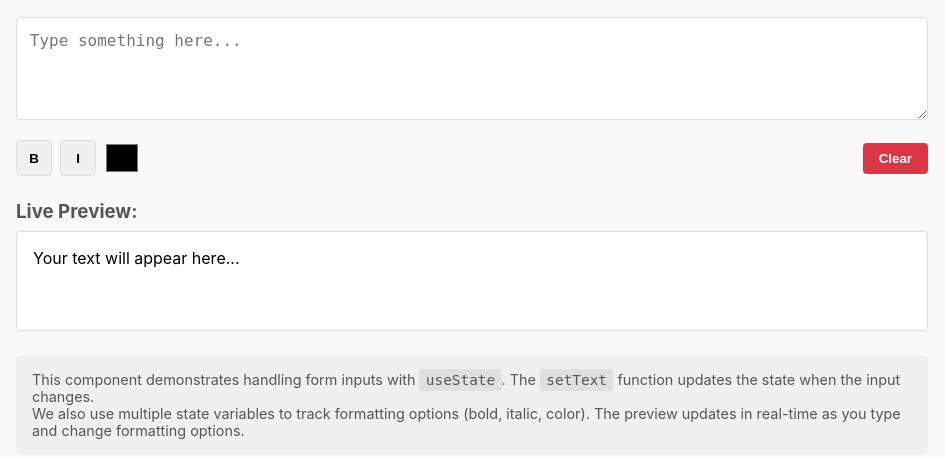
TextPreview Component › clears all formatting and text when clear button is clicked
// Add some text and formatting
Type "Test Text" into the text box with placeholder "Type something here..." at (472, 68), box [16,17,928,120]
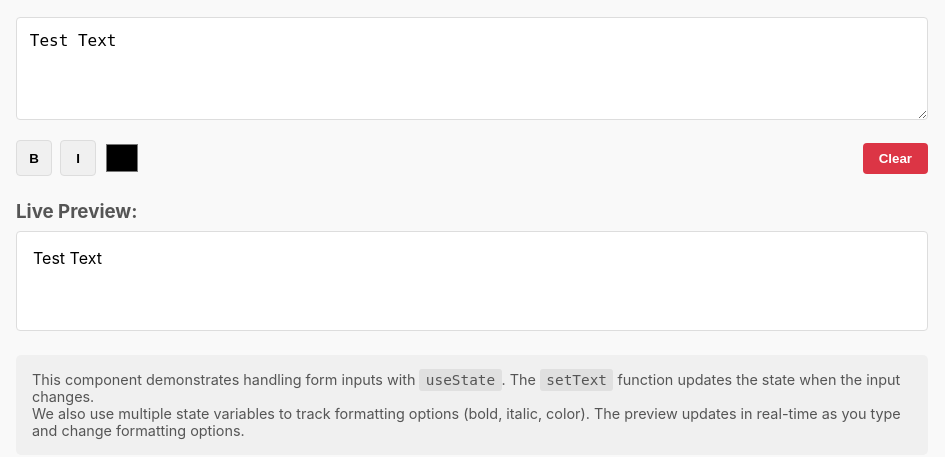
Click the button titled "Bold" at (34, 158), box [16,140,52,176]
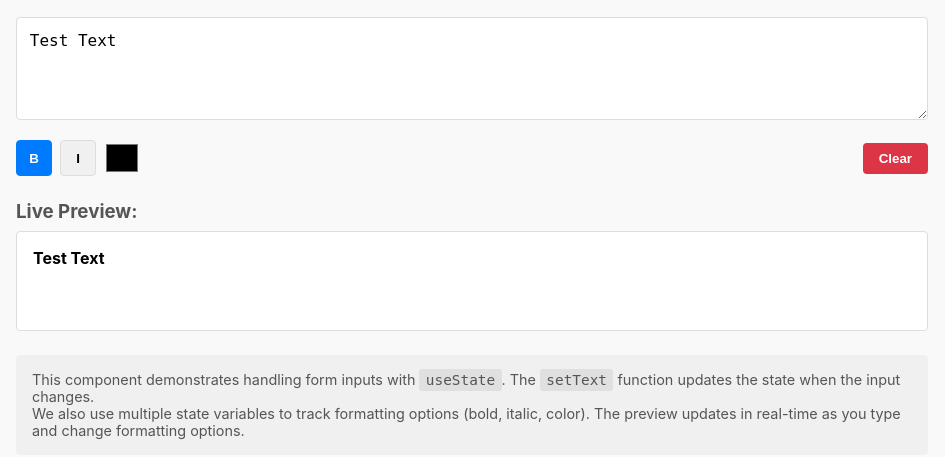
Type "#ff0000" into the colour field titled "Text Color" at (122, 158), box [104,140,140,176]
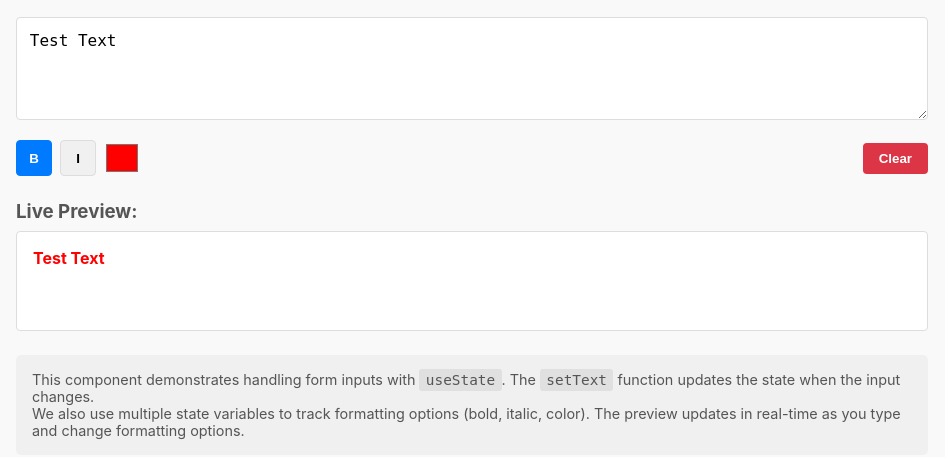
// Click clear button
Click the button titled "Clear All" at (895, 158), box [863,143,928,174]
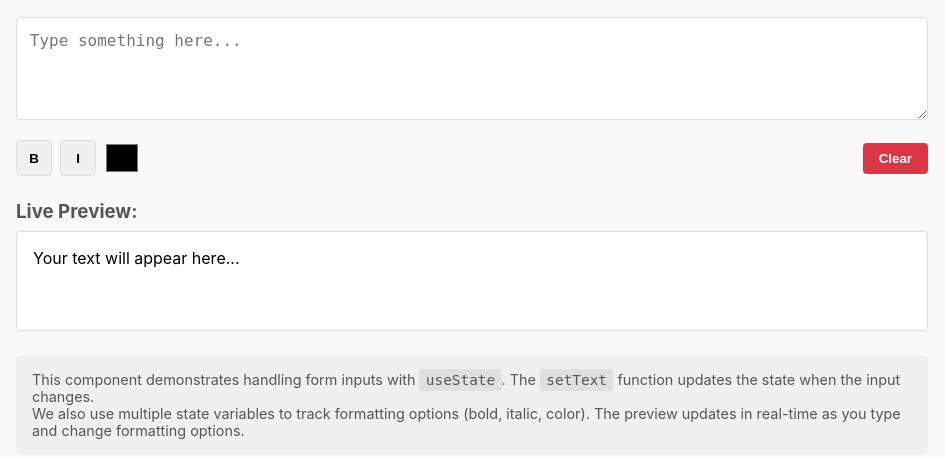
Check: the text box with placeholder "Type something here..." is empty, box [16,17,928,120]
